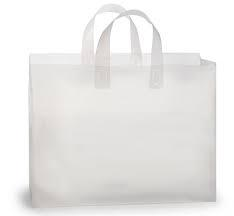Plastic bag: (14, 7, 226, 209)
